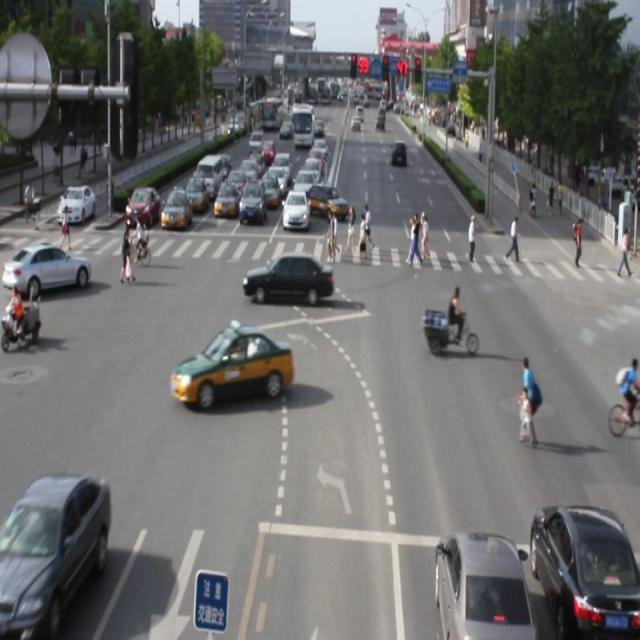car: (1, 472, 112, 626), (523, 495, 640, 640), (429, 524, 530, 640), (170, 326, 294, 408), (242, 250, 335, 308)
